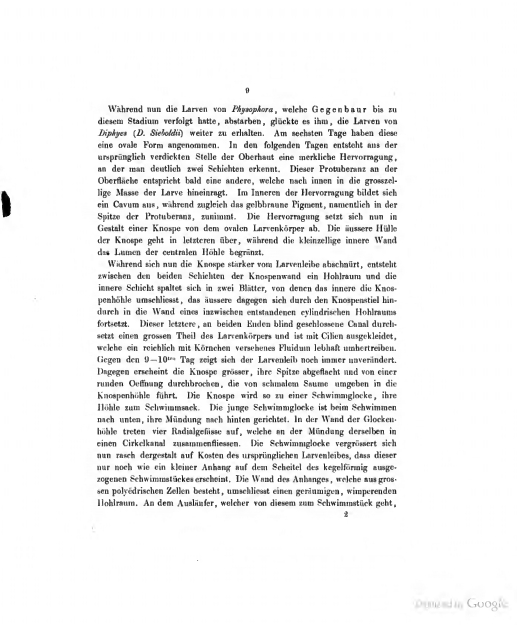MainZone: (89, 95, 404, 512)
NoiseZone: (406, 590, 517, 625)
NumberingZone_page: (241, 81, 256, 102)
QuireMarksZone: (336, 508, 357, 520)
